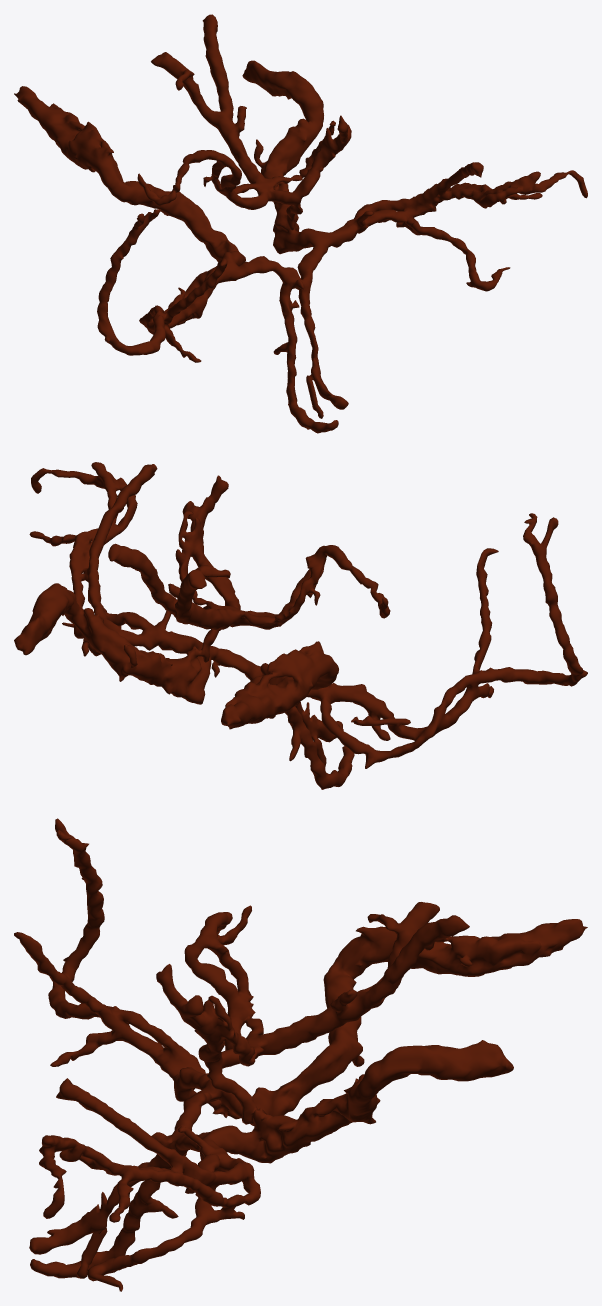
Rendered from Arteries.obj.
3 views of the same model, one above another, from view 1: azimuth 30°, elevation 25°; view 2: azimuth 150°, elevation 25°; view 3: azimuth 270°, elevation 25° (orthographic). The views are drawn at different scales.
Visible parts, largest first — view 1: grp1; view 2: grp1; view 3: grp1.
Boxes of the visible parts, x1,y1,x2,y2 form: grp1: (14,14,587,433); grp1: (14,462,587,789); grp1: (14,818,587,1291).
Bounding box in the file's own units: 129 × 77.46 × 103.
